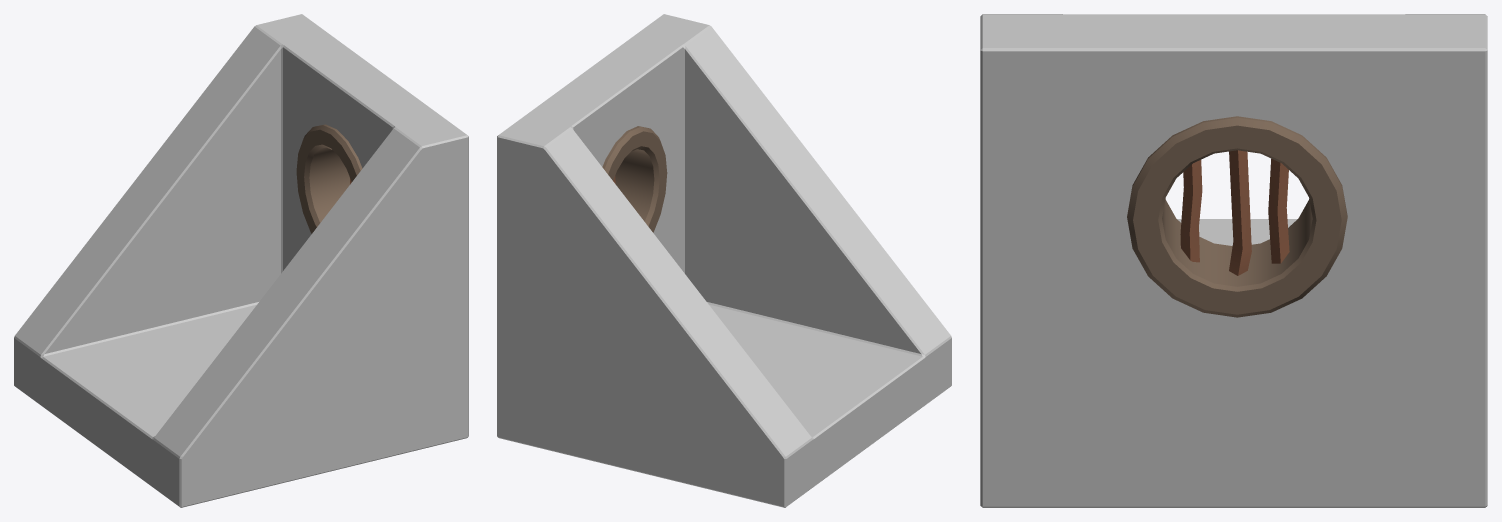
The model's file is prefab_concrete_ramp_05.fbx.
3 views of the same model, side by side, from view 1: azimuth 30°, elevation 25°; view 2: azimuth 150°, elevation 25°; view 3: azimuth 270°, elevation 25° (orthographic). The views are drawn at different scales.
Parts seen in each view (by area): view 1: model_concrete_ramp_05; view 2: model_concrete_ramp_05; view 3: model_concrete_ramp_05.
Part boxes in pixels (x1,y1,x2,y2): model_concrete_ramp_05: (14, 14, 468, 507); model_concrete_ramp_05: (497, 14, 951, 507); model_concrete_ramp_05: (980, 14, 1487, 507).
Bounding box in the file's own units: 306 × 300 × 300.
